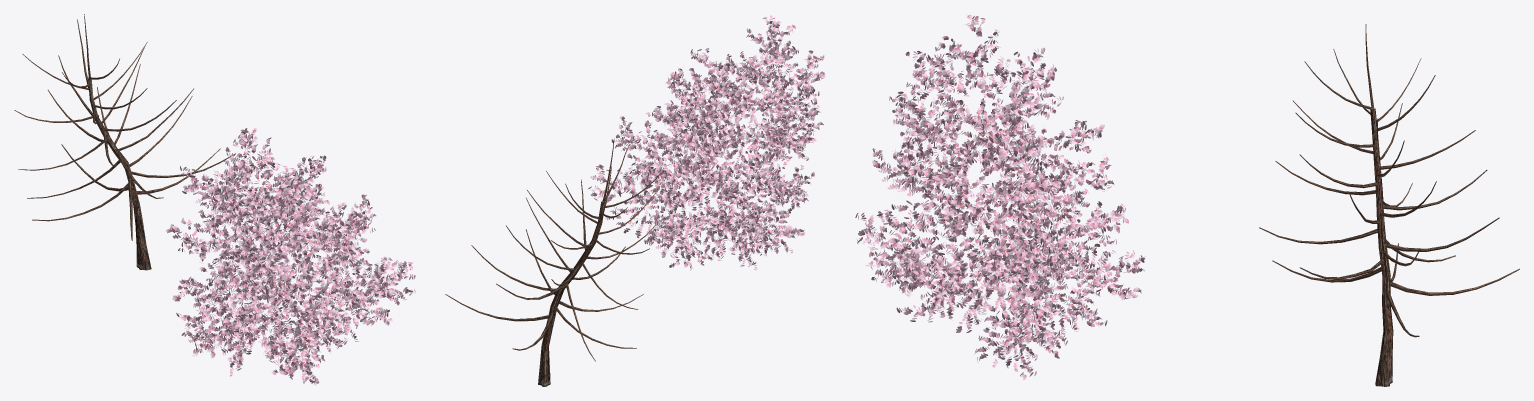
Rendered from TreeLeaves.fbx.
The picture shows the model from 3 angles, left to right: view 1: azimuth 30°, elevation 25°; view 2: azimuth 150°, elevation 25°; view 3: azimuth 270°, elevation 25°; orthographic projection. The views are drawn at different scales.
Visible parts, largest first — view 1: treeLeaves, treeBark; view 2: treeLeaves, treeBark; view 3: treeLeaves, treeBark.
Part boxes in pixels (<box>): treeLeaves: <box>165,128,415,385</box>; treeBark: <box>14,14,234,270</box>; treeLeaves: <box>588,14,825,270</box>; treeBark: <box>445,138,660,386</box>; treeLeaves: <box>855,14,1145,380</box>; treeBark: <box>1259,24,1519,386</box>.
Size of the model in its own units: 16.49 by 19 by 34.51.
Materials: 2 (2 with a texture image).
